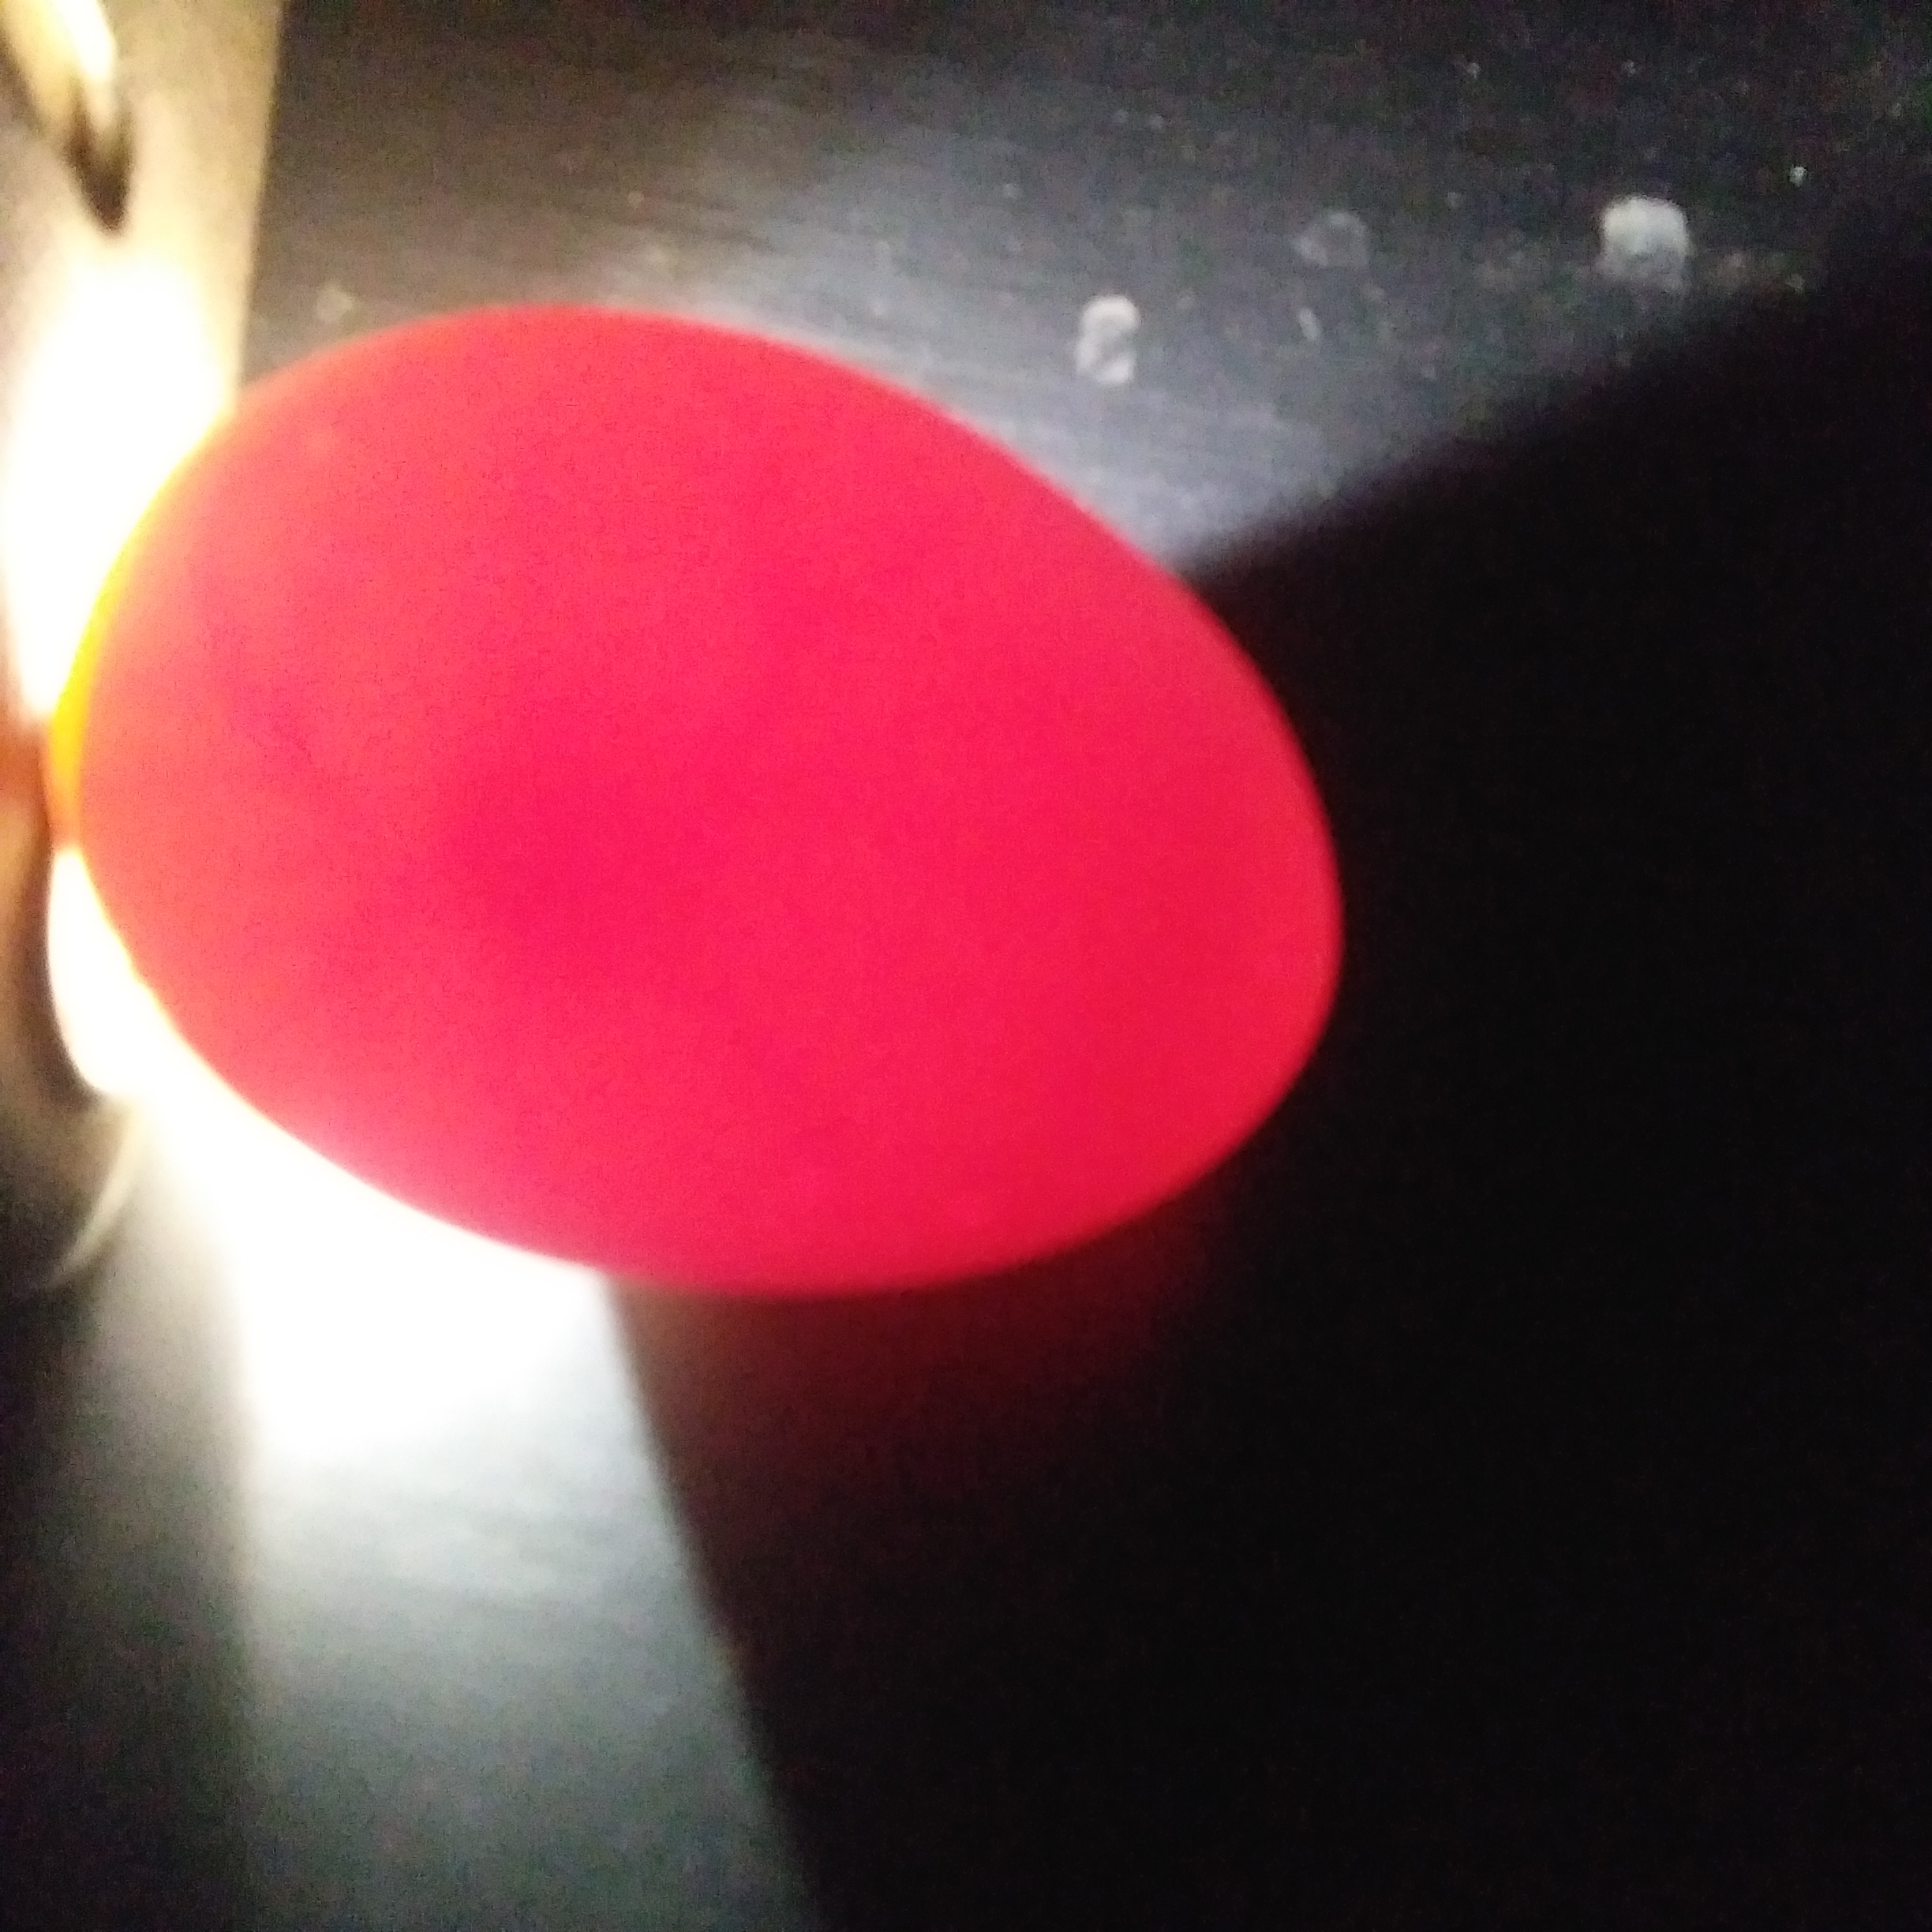bloodcell: (170, 527, 357, 945)
embryo: (419, 734, 619, 950)
